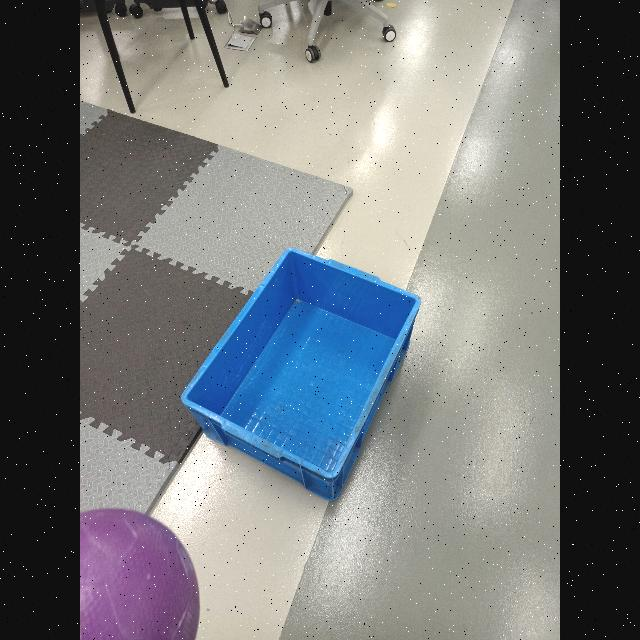P: (80, 508, 200, 640)
